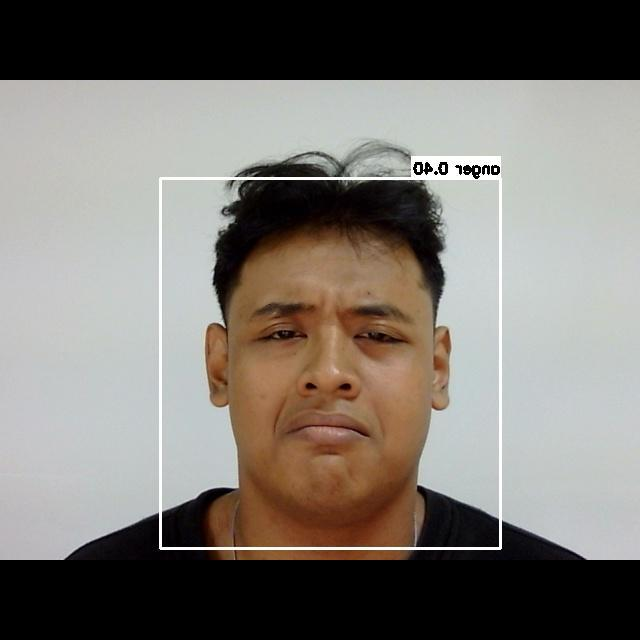Sad: (225, 273, 431, 483)
